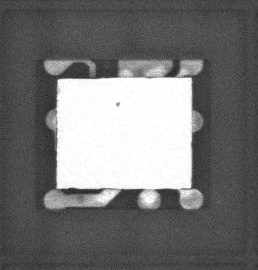DIE_INK: (109, 105, 117, 113)
